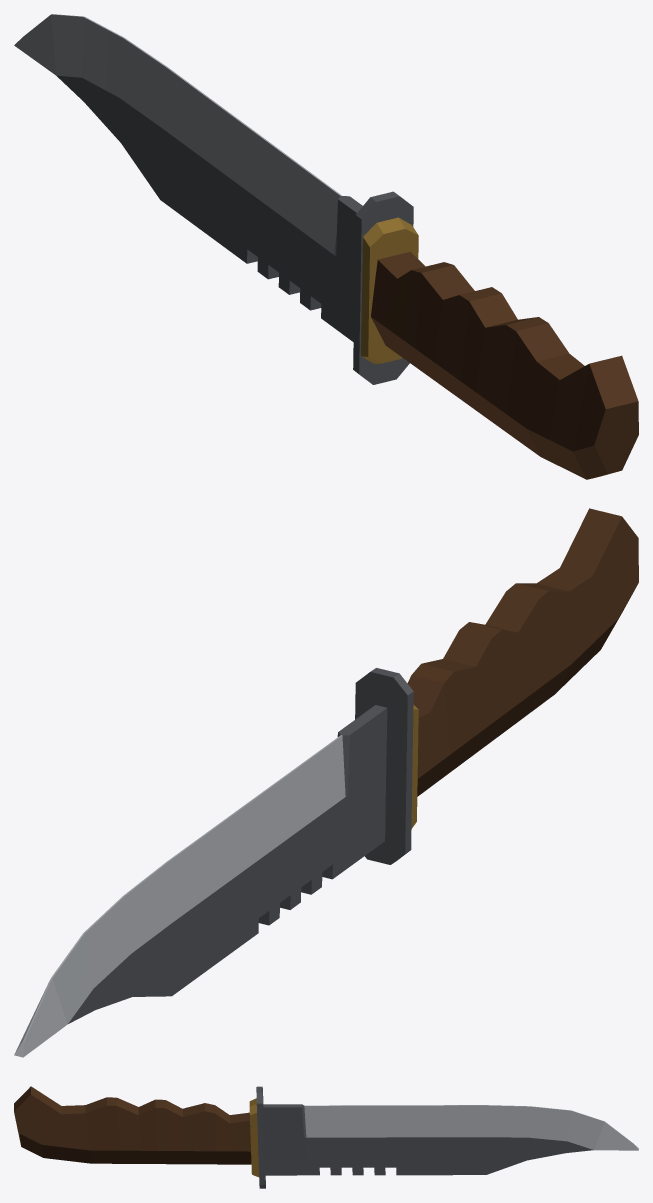
The model's file is knife.glb.
3 renders of one model, top to bottom at view 1: azimuth 30°, elevation 25°; view 2: azimuth 150°, elevation 25°; view 3: azimuth 270°, elevation 25°, orthographic. The views are drawn at different scales.
Visible parts, largest first — view 1: Knife; view 2: Knife; view 3: Knife.
Boxes of the visible parts, box(x1,y1,x2,y2) form: Knife: box(14, 14, 638, 479); Knife: box(14, 508, 638, 1057); Knife: box(14, 1086, 638, 1188).
Size of the model in its own units: 0.0159 by 0.0543 by 0.32.
